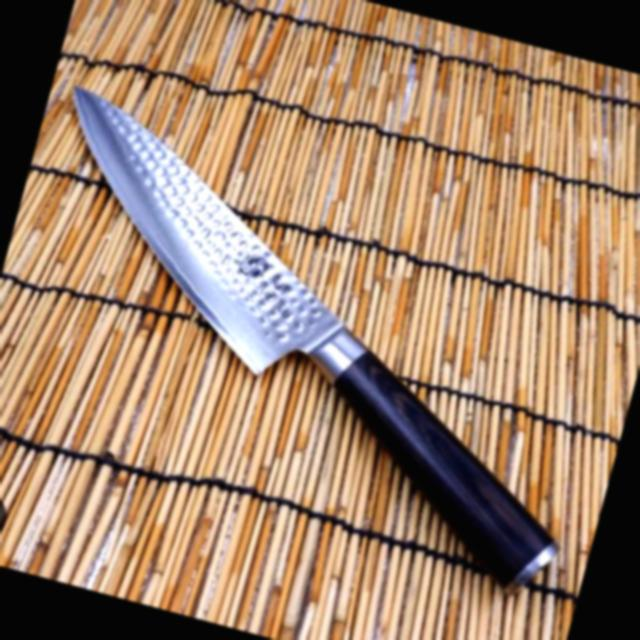knife: (0, 59, 640, 611)
